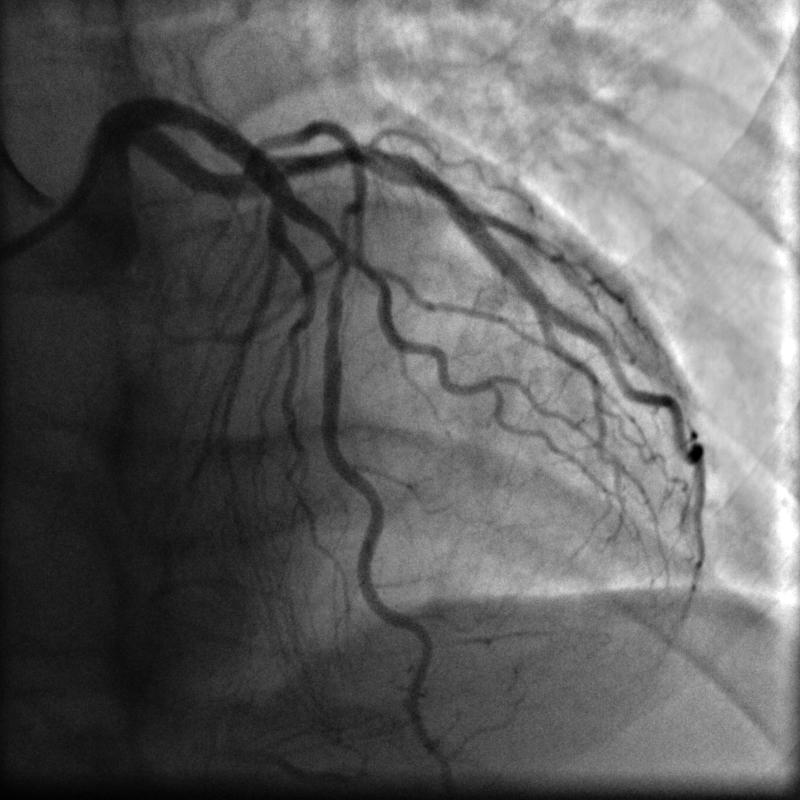Stenosis: (329, 243, 352, 316)
